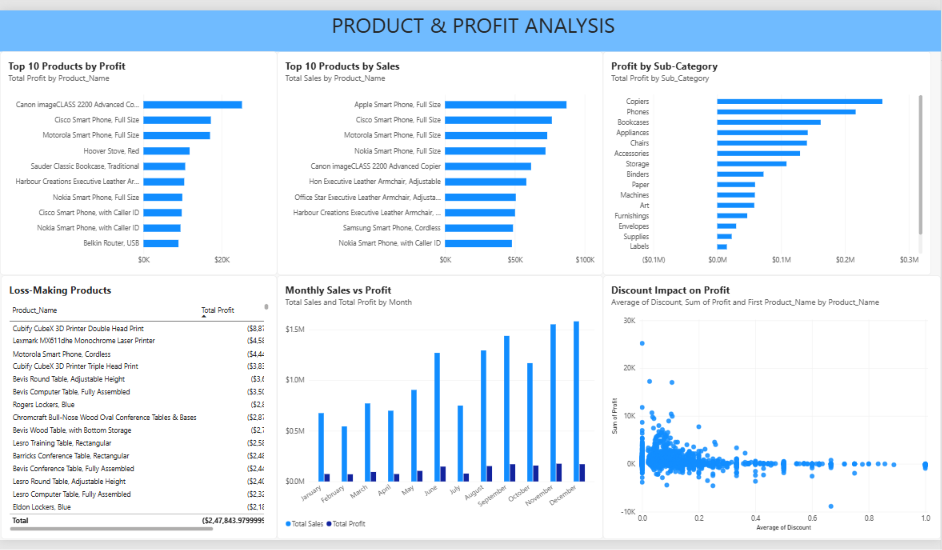

Layout of this report page (visuals, bound fields, positions):
{"tool":"powerbi","page":{"name":"Product & Profit Analysis","canvas":[1920,1080],"ordinal":1},"visuals":[{"type":"clusteredBarChart","title":"Profit by Sub-Category","fields":{"Category":["SalesData.Sub_Category"],"Y":["SalesData.Total Profit"]},"box":[1230.6,83.7,669.4,457.1],"z":0},{"type":"clusteredBarChart","title":"Top 10 Products by Sales","fields":{"Category":["SalesData.Product_Name"],"Y":["SalesData.Total Sales"]},"box":[565.3,83.7,665.3,457.1],"z":1000},{"type":"clusteredColumnChart","title":"Monthly Sales vs Profit","fields":{"Category":["DateTable.Month"],"Y":["SalesData.Total Sales","SalesData.Total Profit"]},"box":[565.3,540.8,665.3,538.8],"z":2000},{"type":"textbox","box":[0,0,1920.4,83.7],"z":3000},{"type":"clusteredBarChart","title":"Top 10  Products by Profit","fields":{"Category":["SalesData.Product_Name"],"Y":["SalesData.Total Profit"]},"box":[0,83.7,565.3,457.1],"z":4000},{"type":"tableEx","title":"Loss-Making Products","fields":{"Values":["SalesData.Product_Name","SalesData.Total Profit","Sum(SalesData.Profit)"]},"box":[2,540.8,563.3,538.8],"z":5000},{"type":"scatterChart","title":"Discount Impact on Profit","fields":{"Y":["Sum(SalesData.Profit)"],"Category":["SalesData.Product_Name"],"X":["Avg(SalesData.Discount)"]},"box":[1230.6,540.8,689.8,538.8],"z":6000}]}

Visuals, with their boxes on the page's 1920x1080 design canvas (x1, y1, x2, y2). These are canvas units, not pixel positions in the 942x550 screenshot, which may show the page scaled, cropped or inside an application window:
"Profit by Sub-Category" clusteredBarChart: 1231,84,1900,541
"Top 10 Products by Sales" clusteredBarChart: 565,84,1231,541
"Monthly Sales vs Profit" clusteredColumnChart: 565,541,1231,1080
textbox: 0,0,1920,84
"Top 10  Products by Profit" clusteredBarChart: 0,84,565,541
"Loss-Making Products" tableEx: 2,541,565,1080
"Discount Impact on Profit" scatterChart: 1231,541,1920,1080
